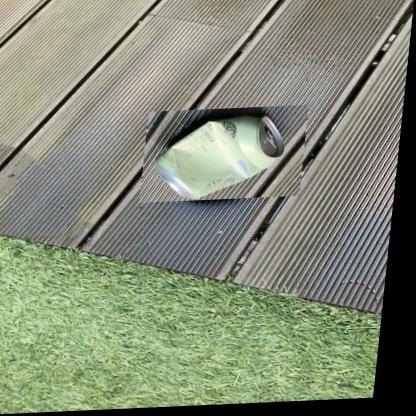trash: (155, 115, 283, 199)
